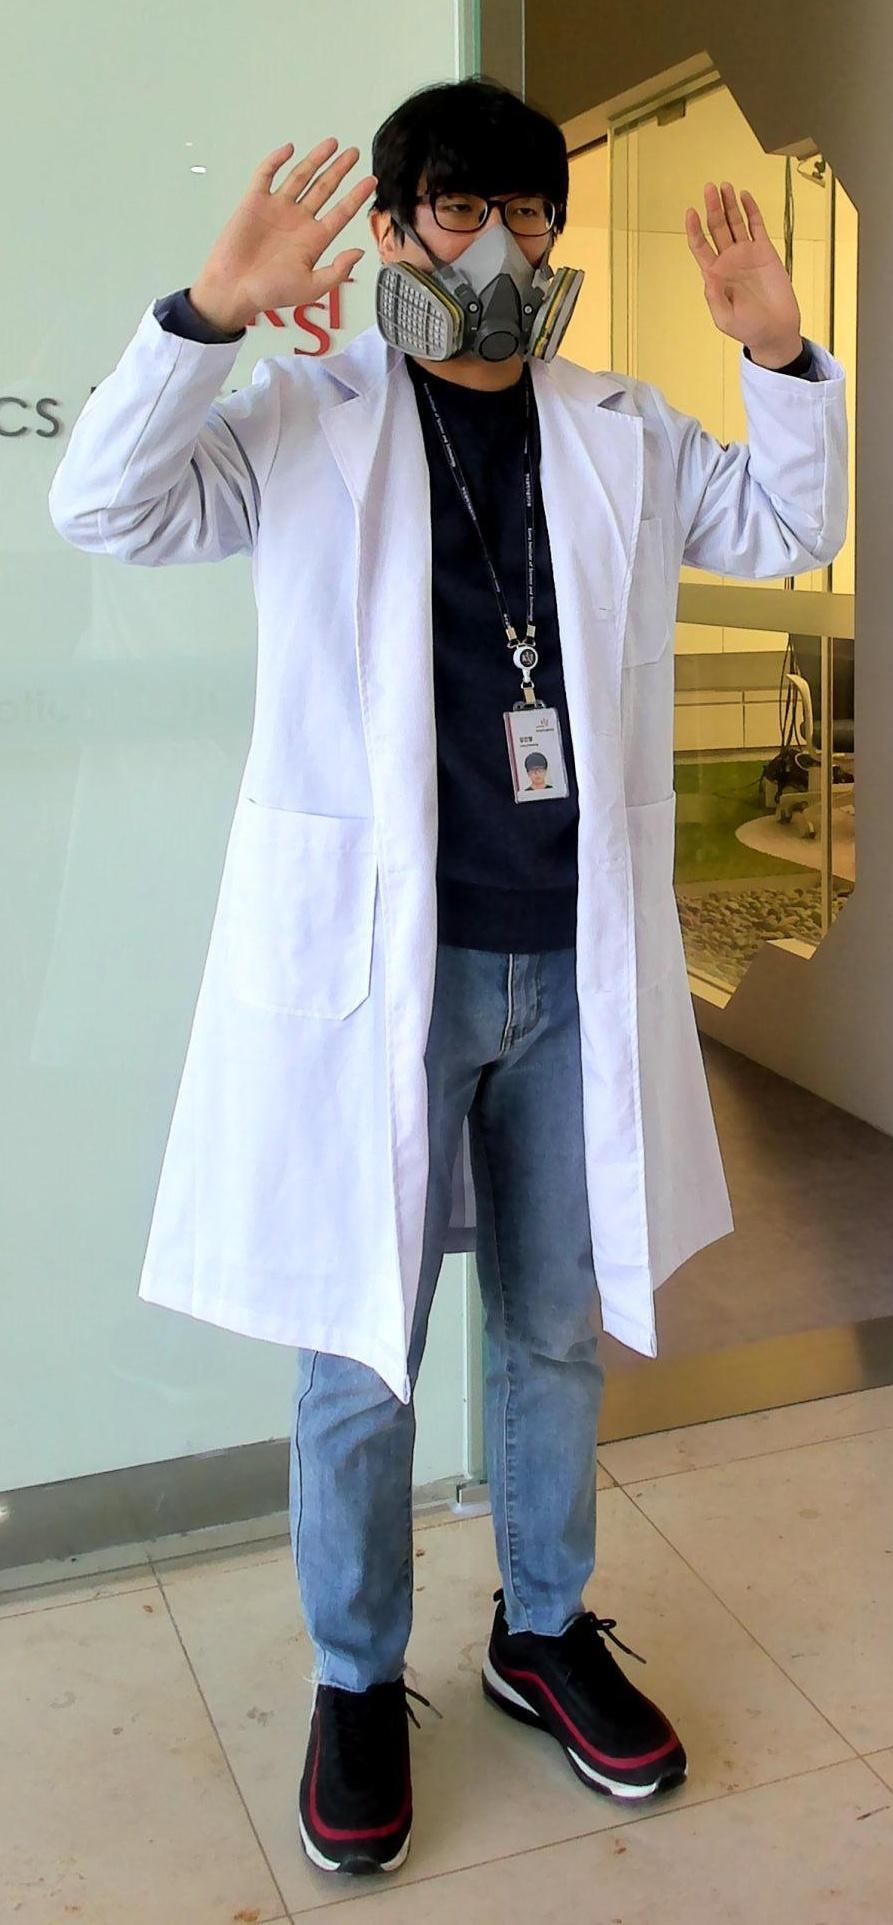lab_coat: (167, 390, 721, 1353)
